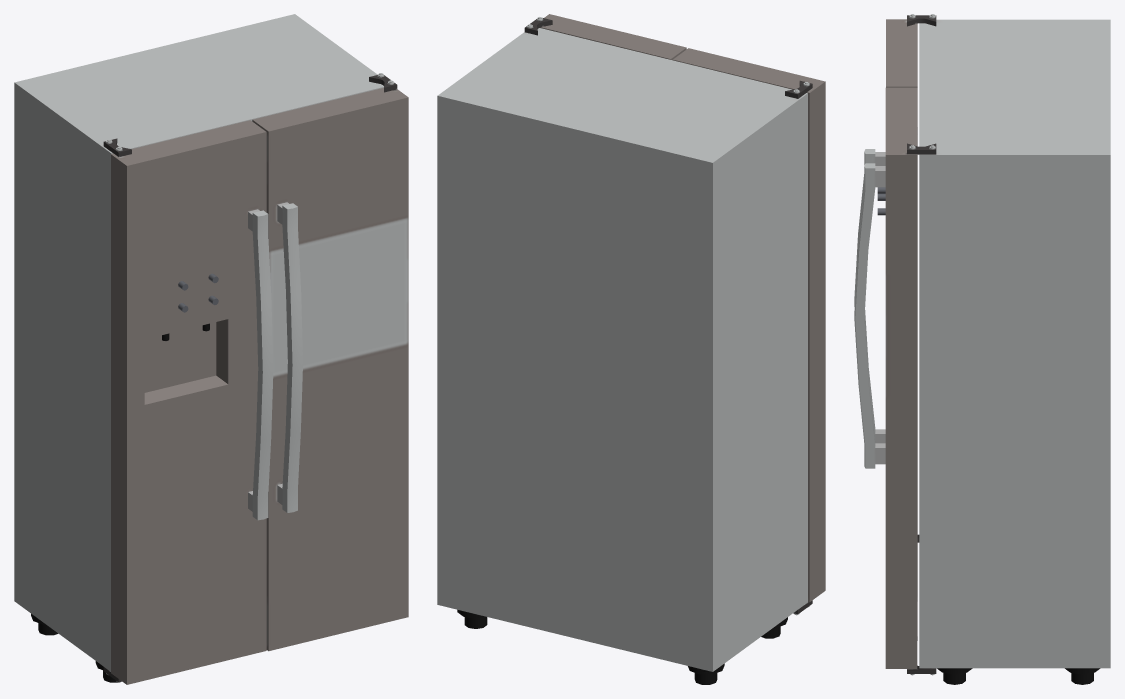
The model's file is aws_Refrigerator_01.DAE.
3 views of the same model, side by side, from view 1: azimuth 30°, elevation 25°; view 2: azimuth 150°, elevation 25°; view 3: azimuth 270°, elevation 25° (orthographic).
Visible parts, largest first — view 1: aws_Refrigerator_01; view 2: aws_Refrigerator_01; view 3: aws_Refrigerator_01.
Boxes of the visible parts, x1,y1,x2,y2 form: aws_Refrigerator_01: (14,14,408,684); aws_Refrigerator_01: (437,14,825,684); aws_Refrigerator_01: (854,14,1110,684).
Size of what is drawn, in the model's own units: 104 by 83.08 by 194.
Materials: 1 (1 with a texture image).
